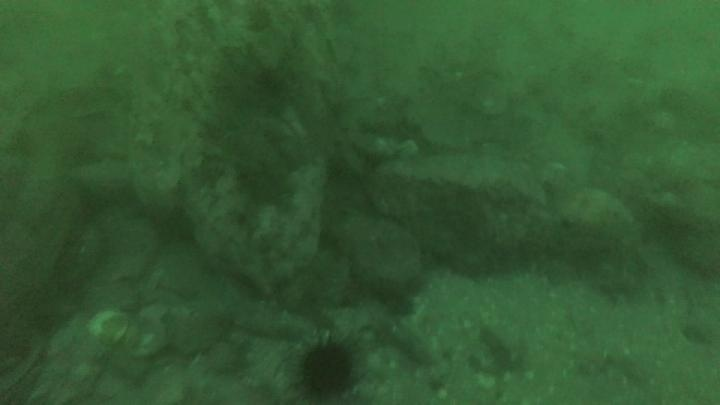echinus: (291, 333, 362, 403)
